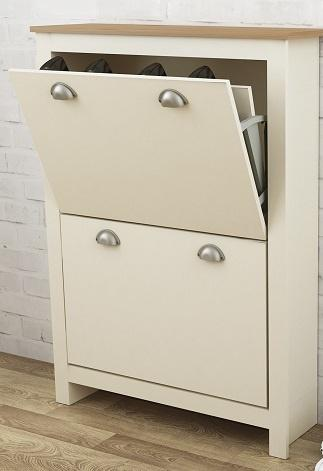cabinet_door: (59, 227, 262, 388), (34, 77, 264, 219)
handle: (47, 80, 83, 105), (197, 242, 227, 270), (94, 226, 122, 253), (157, 89, 189, 112)
